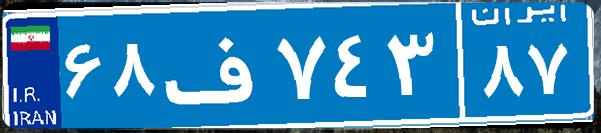3: (385, 28, 445, 110)
4: (330, 28, 385, 110)
6: (57, 26, 110, 107)
7: (273, 28, 330, 110), (525, 38, 570, 115)
8: (475, 38, 525, 113), (110, 28, 158, 105)
ف: (158, 15, 273, 115)
